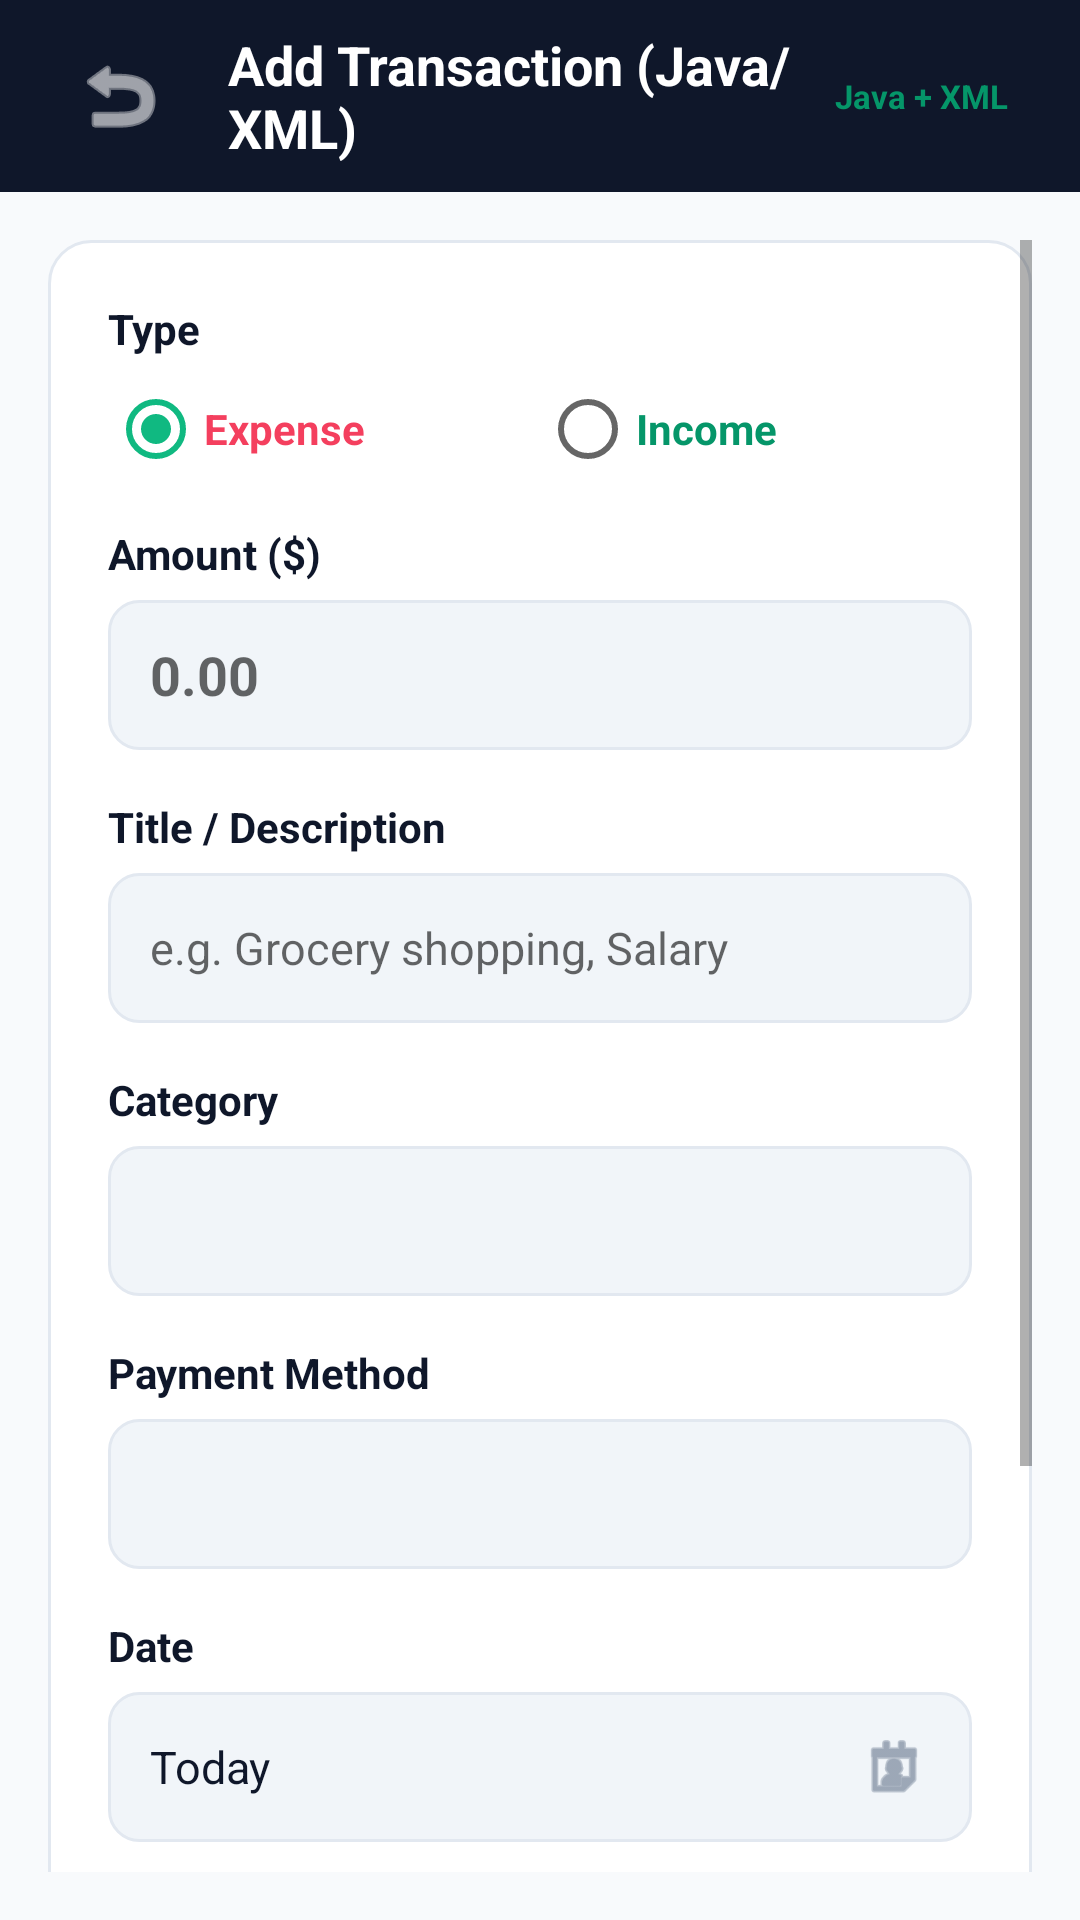

Icons on this 1080 × 1920 Android screen, each with its box as (x1, y1, x2, y2):
Back: (87, 65, 156, 128)
Calendar: (871, 1740, 917, 1793)
